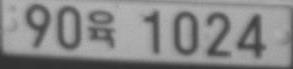0: (173, 10, 200, 55), (57, 5, 80, 49)
1: (143, 9, 164, 53)
2: (206, 12, 231, 56)
4: (237, 13, 267, 58)
9: (25, 4, 51, 48)
육: (87, 9, 116, 47)
